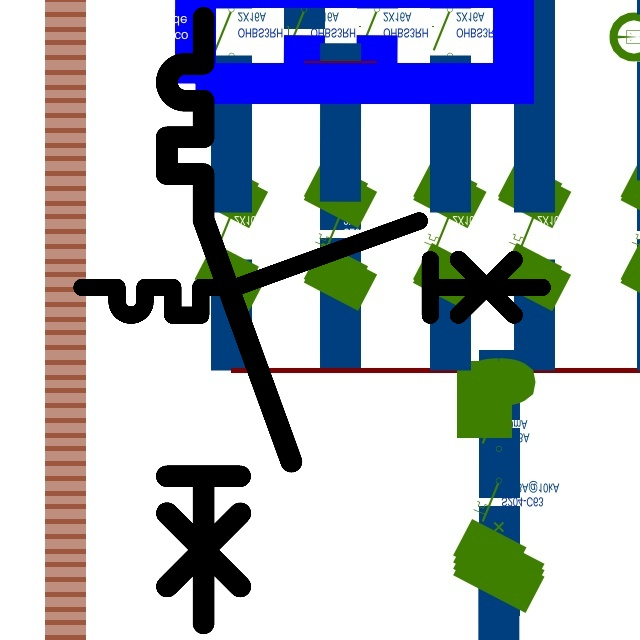interruptor_termomagnetico: (151, 2, 307, 639), (70, 209, 554, 327)
